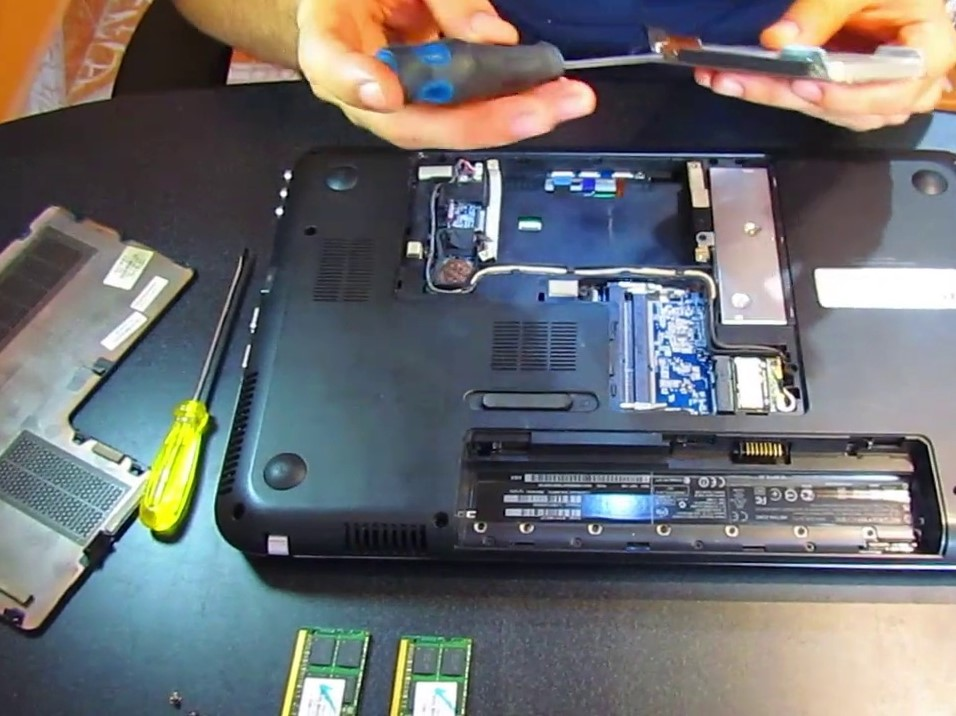screwdriver: (135, 241, 253, 540), (367, 37, 661, 112)
